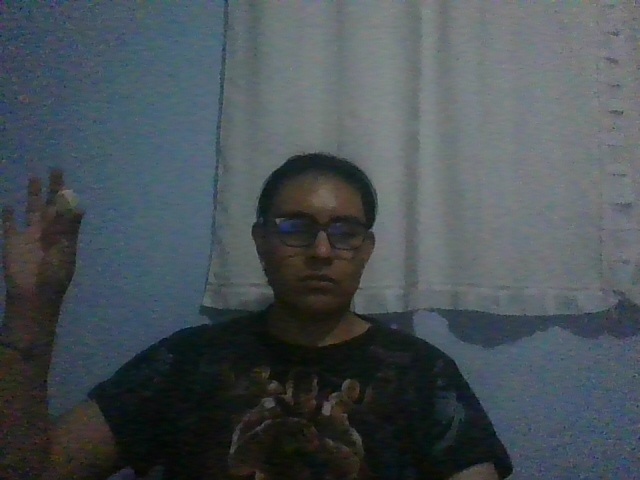goma: (54, 189, 80, 213)
